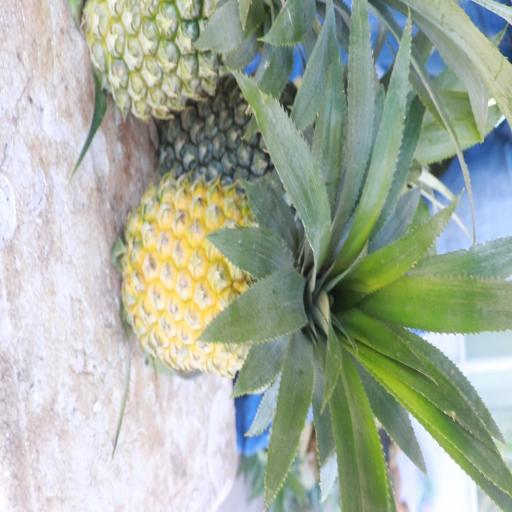------------------------------: (79, 0, 254, 112)
Pineapple - v8 v1: (130, 175, 318, 374)
